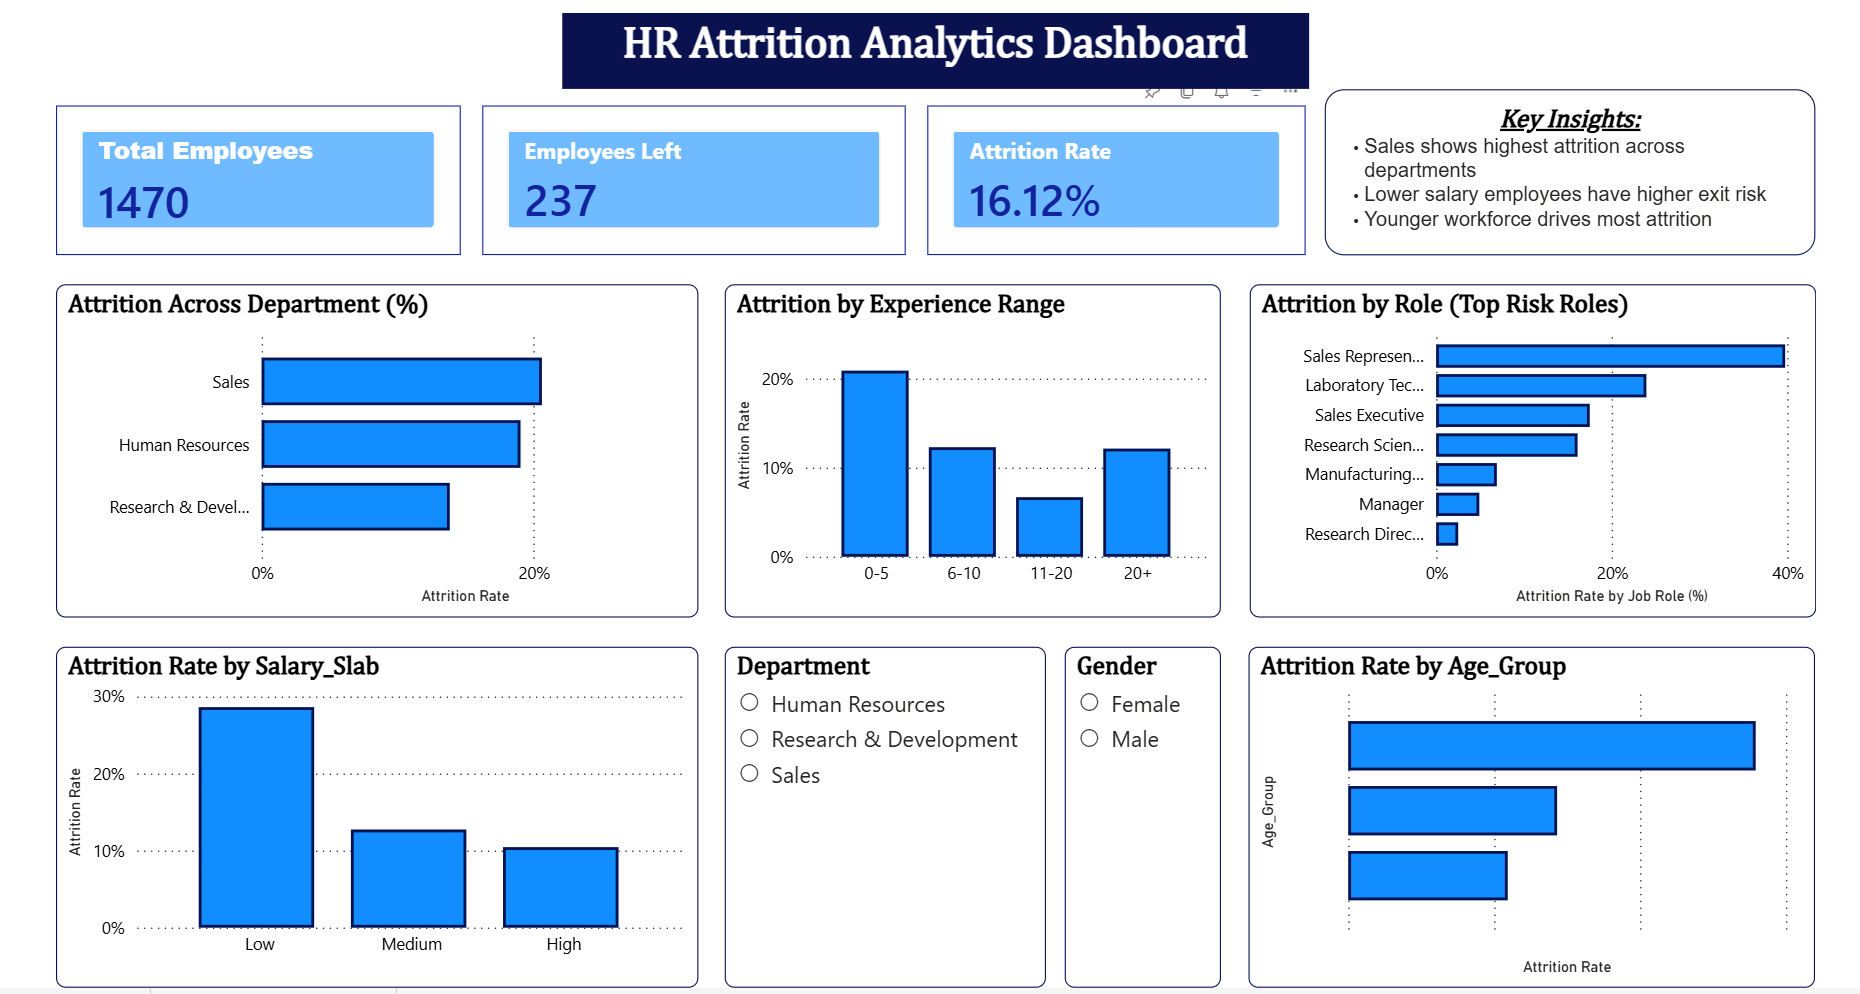

What the dashboard file says about the page in this screenshot:
{"tool":"powerbi","page":{"name":"Page 1","canvas":[1280,720],"ordinal":0},"visuals":[{"type":"cardVisual","fields":{"Data":["Raw Data.Employees Left"]},"box":[310.2,78.3,308.2,108.8],"z":1000},{"type":"cardVisual","fields":{"Data":["Raw Data.Attrition Rate"]},"box":[633.8,78.3,275,108.8],"z":2000},{"type":"cardVisual","fields":{"Data":["Raw Data.Total Employees"]},"box":[0,78.3,294.7,108.8],"z":3000},{"type":"clusteredBarChart","title":"Attrition Across Department (%)","fields":{"Y":["Raw Data.Attrition Rate"],"Category":["Raw Data.Department"]},"box":[0,207.9,467.1,242.1],"z":4000},{"type":"barChart","title":"Attrition by Role (Top Risk Roles)","fields":{"Category":["Raw Data.JobRole"],"Y":["Raw Data.Attrition Rate"]},"box":[868.2,207.9,412.1,242.1],"z":5000},{"type":"clusteredColumnChart","fields":{"Category":["Raw Data.Salary_Slab"],"Y":["Raw Data.Attrition Rate"]},"box":[0,472,467.1,248.2],"z":6000},{"type":"listSlicer","fields":{"Values":["Raw Data.Department"]},"box":[486.7,472,233.6,248.2],"z":7000},{"type":"listSlicer","fields":{"Values":["Raw Data.Gender"]},"box":[733.7,472,113.7,248.2],"z":8000},{"type":"clusteredBarChart","fields":{"Y":["Raw Data.Attrition Rate"],"Category":["Raw Data.Age_Group"]},"box":[867,472,412.1,248.2],"z":9000},{"type":"textbox","box":[922.9,66,357.1,121.1],"z":10000},{"type":"textbox","box":[368.1,11,542.9,55],"z":11000},{"type":"clusteredColumnChart","title":"Attrition by Experience Range","fields":{"Category":["Raw Data.YearsGroup"],"Y":["Raw Data.Attrition Rate"]},"box":[486.7,207.9,360.7,242.1],"z":12000}]}

Visuals, with their boxes in screenshot pixels (x1, y1, x2, y2):
cardVisual - Raw Data.Employees Left: (485, 106, 904, 254)
cardVisual - Raw Data.Attrition Rate: (925, 106, 1299, 254)
cardVisual - Raw Data.Total Employees: (63, 106, 464, 254)
"Attrition Across Department (%)" clusteredBarChart: (63, 283, 698, 612)
"Attrition by Role (Top Risk Roles)" barChart: (1244, 283, 1804, 612)
clusteredColumnChart - Raw Data.Salary_Slab x Raw Data.Attrition Rate: (63, 642, 698, 980)
listSlicer - Raw Data.Department: (725, 642, 1043, 980)
listSlicer - Raw Data.Gender: (1061, 642, 1215, 980)
clusteredBarChart - Raw Data.Attrition Rate x Raw Data.Age_Group: (1242, 642, 1803, 980)
textbox: (1318, 90, 1804, 254)
textbox: (564, 15, 1302, 90)
"Attrition by Experience Range" clusteredColumnChart: (725, 283, 1215, 612)
